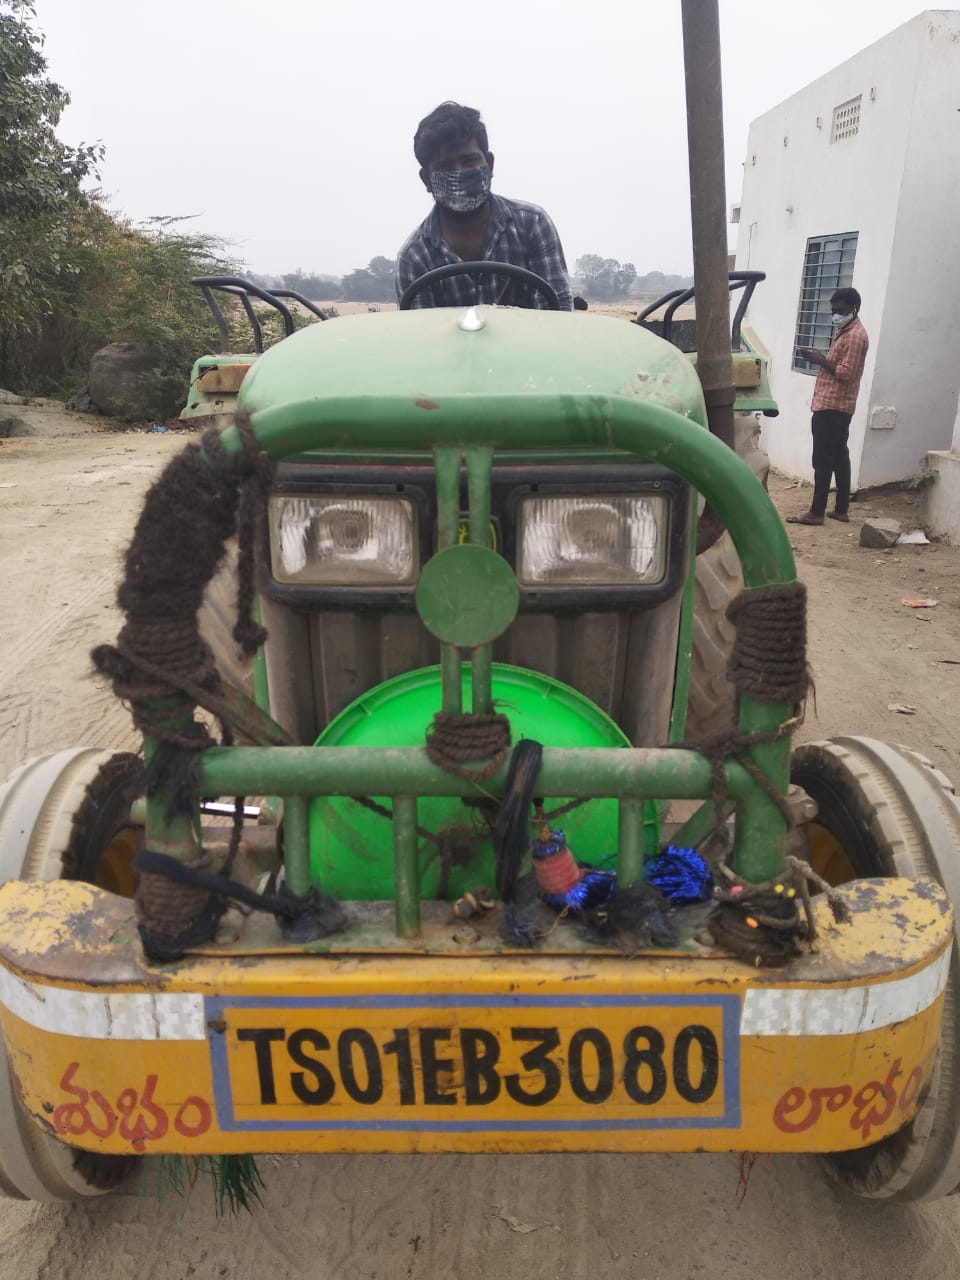num_plate: (195, 981, 755, 1135)
